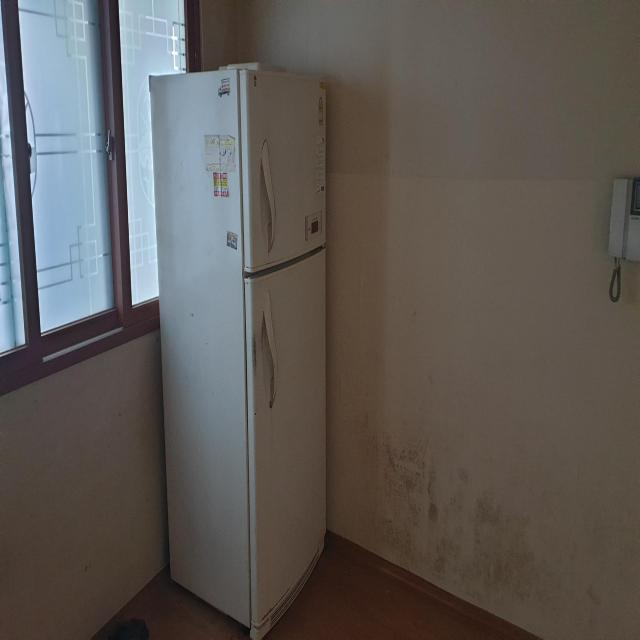refrigerator: (148, 57, 329, 640)
